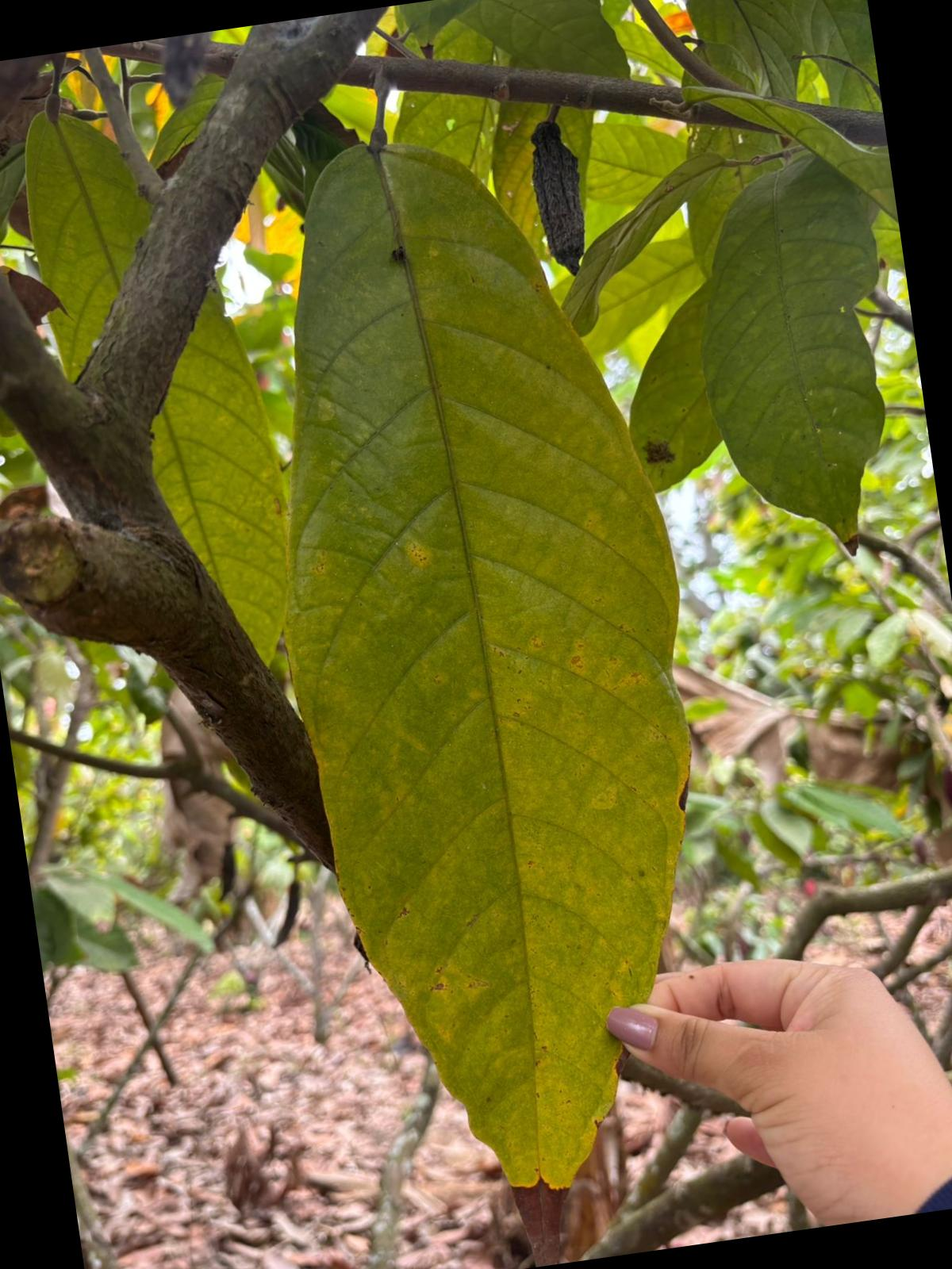Nitrogeno: (287, 144, 691, 1193)
